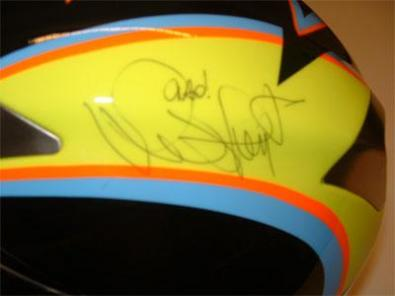helmet: (13, 14, 380, 288)
